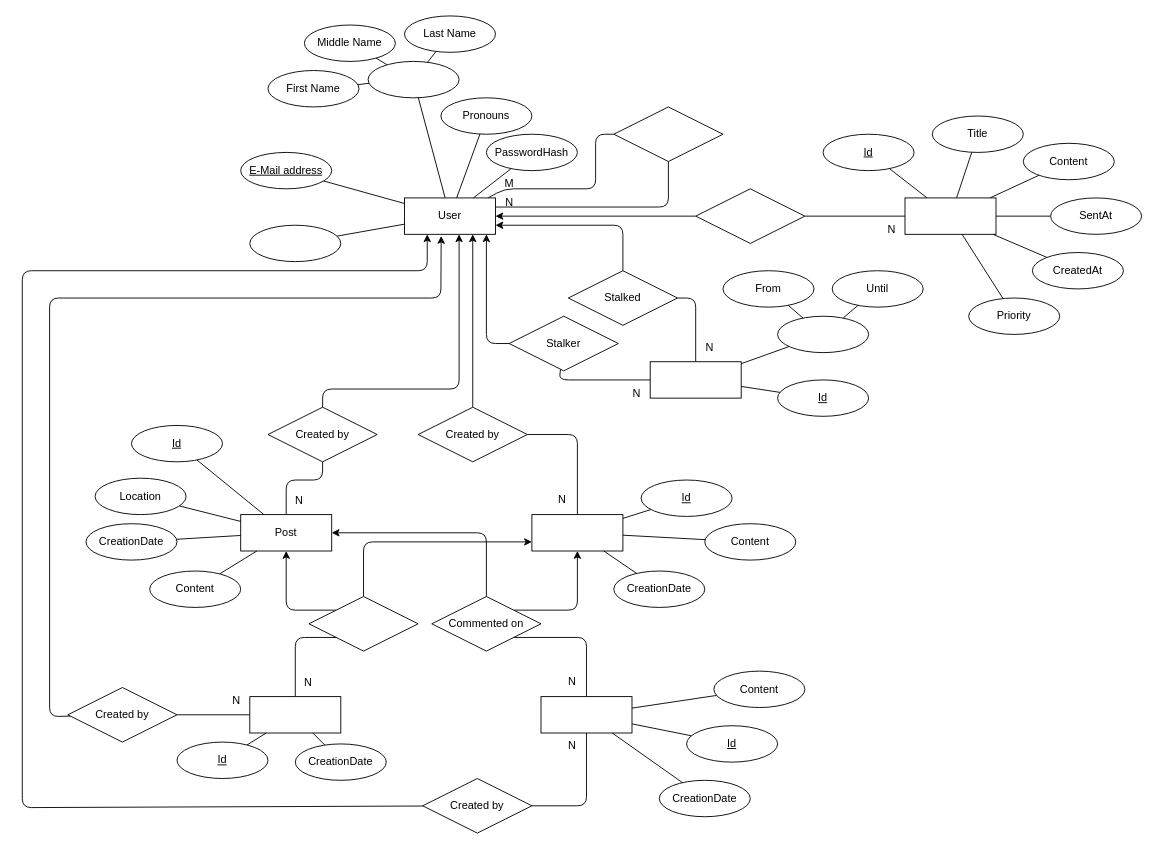
This 1158x849 diagram has some shape labels left out. Here are the shapes that lost their labels. From the top down, the centre of each, then its label:
At (413,79): "Name".
At (668,134): "Following".
At (750,215): "Recipient".
At (950,215): "EmailQueue".
At (295,243): "Watcher".
At (823,334): "TimeInterval".
At (695,379): "WatchList".
At (577,532): "Poetry".
At (363,623): "Engaged with".
At (295,714): "Engagement".
At (586,714): "Comment".
